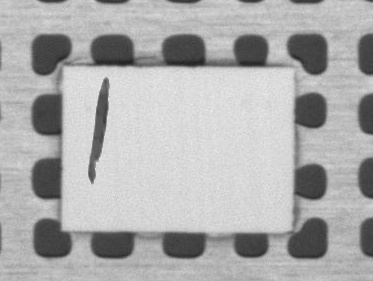DIE_INK: (114, 56, 147, 140)
